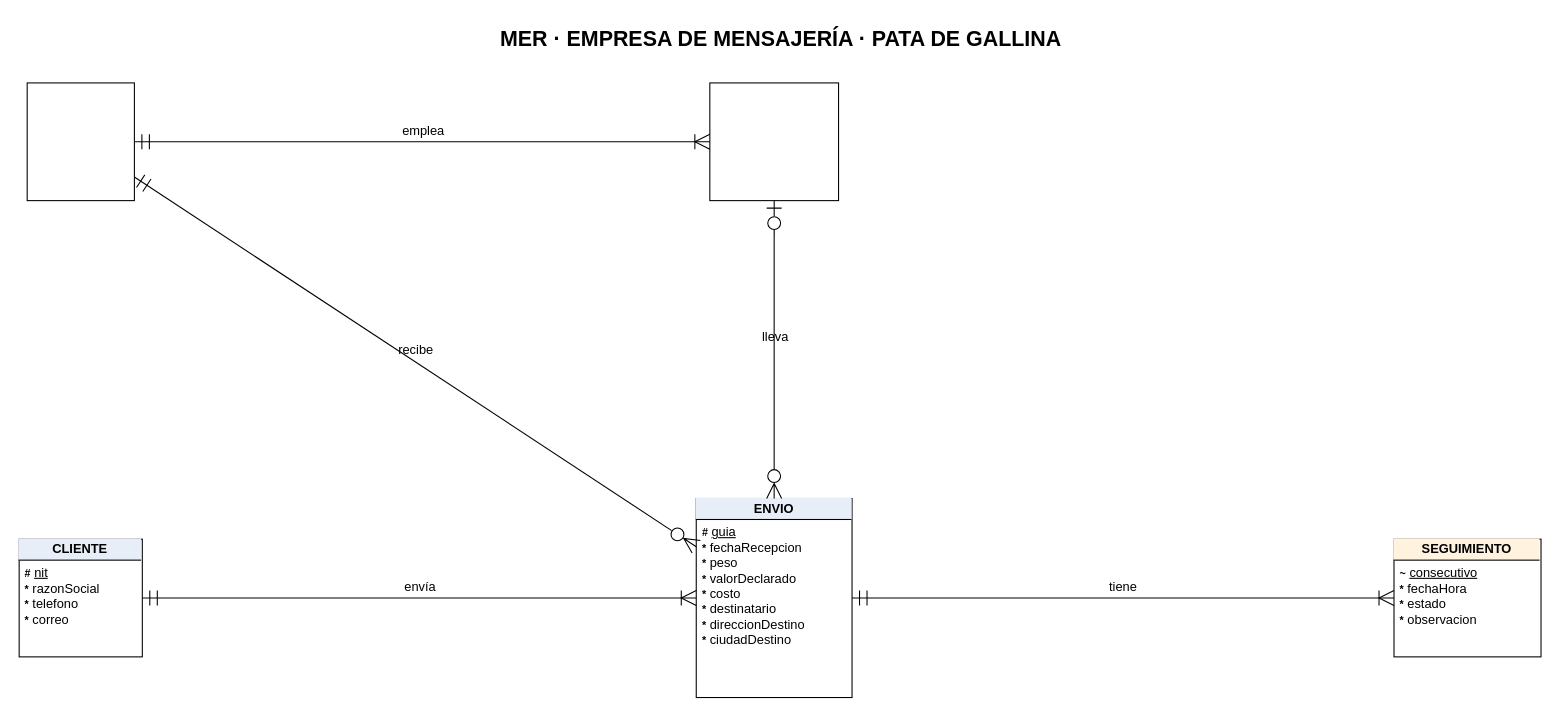
The diagram is 1560 pixels wide and 716 high, and some of its shapes have lost their labels. Each missing label, with the centre of its shape:
MENSAJERO # idMensajero * nombre * licencia * vehiculo: pixel 774 141
SEDE # idSede * ciudad * direccion * telefono: pixel 80 141
